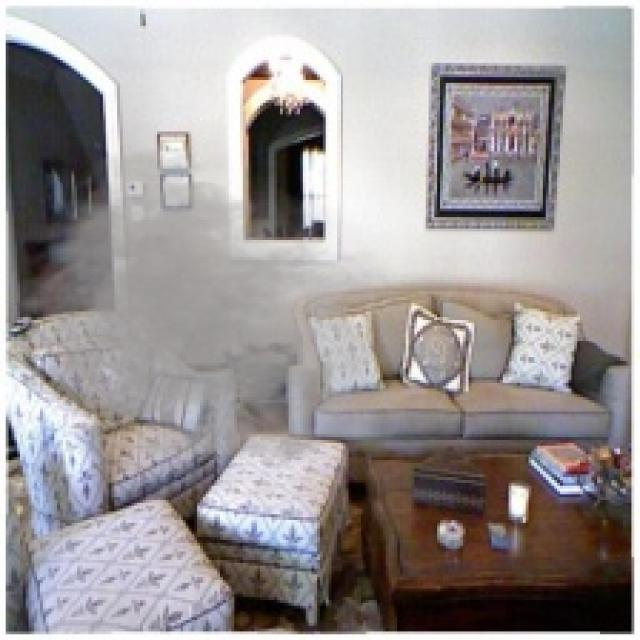smoke: (3, 137, 414, 483)
